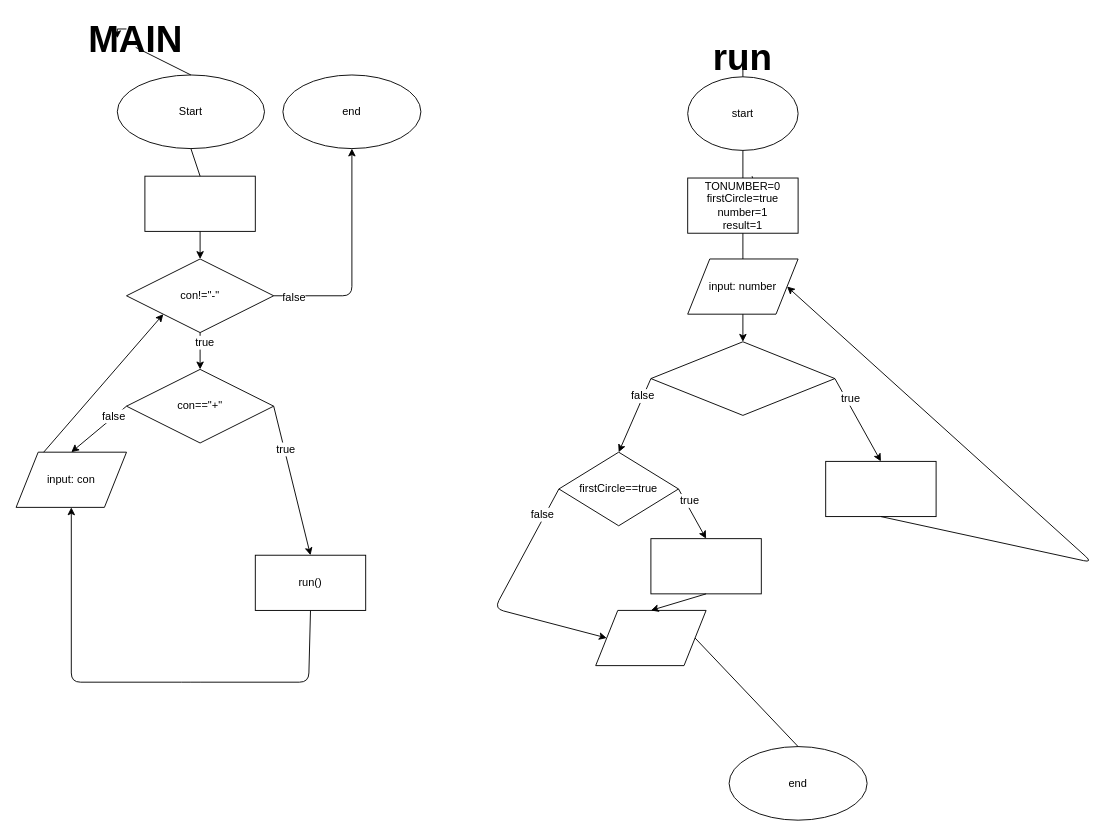
Some shapes in this 1116 by 836 pixel diagram are drawn without their labels. Each missing label, with the box of its shape:
con="+": (144, 175, 255, 231)
number!=TONUMBER: (650, 341, 835, 415)
output result: (595, 610, 706, 666)
result=0: (650, 538, 761, 594)
result=result*number firstCircle=false: (825, 460, 936, 517)
